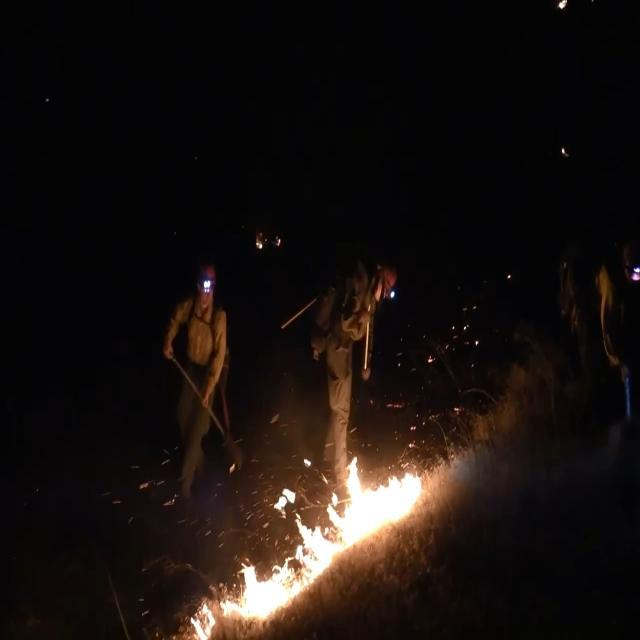Fire: (188, 457, 426, 640)
